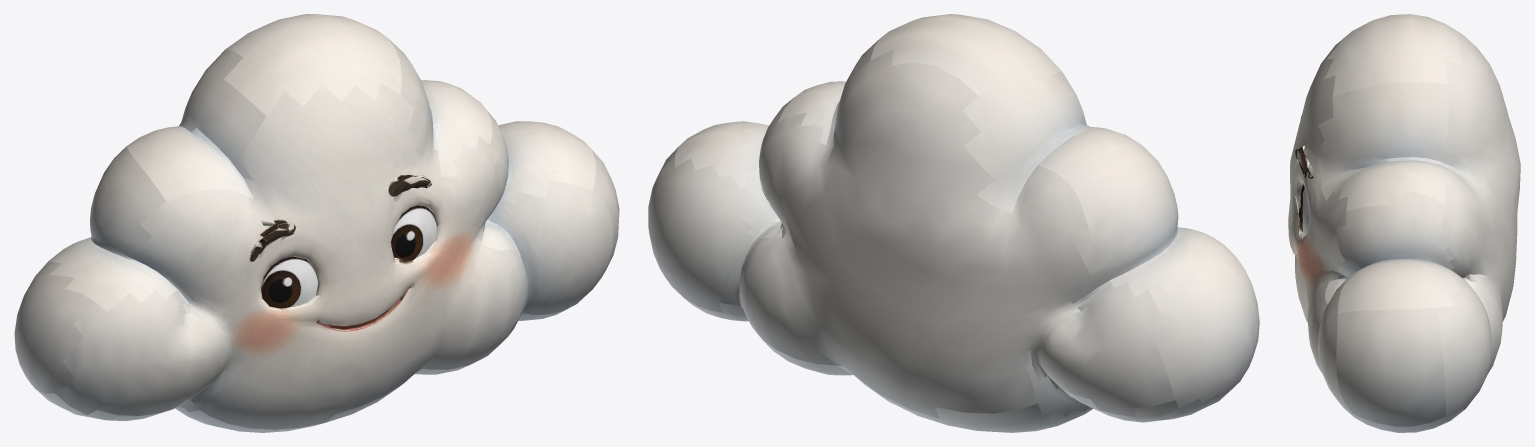
The model's file is bulut.glb.
The picture shows the model from 3 angles, left to right: view 1: azimuth 30°, elevation 25°; view 2: azimuth 150°, elevation 25°; view 3: azimuth 270°, elevation 25°; orthographic projection. The views are drawn at different scales.
Visible parts, largest first — view 1: Mesh0; view 2: Mesh0; view 3: Mesh0.
Boxes of the visible parts, <box> form: Mesh0: <box>14,14,619,432</box>; Mesh0: <box>648,14,1259,432</box>; Mesh0: <box>1288,14,1520,432</box>.
Bounding box in the file's own units: 1.9 × 1.21 × 0.7278.
1 material, 1 textured.
